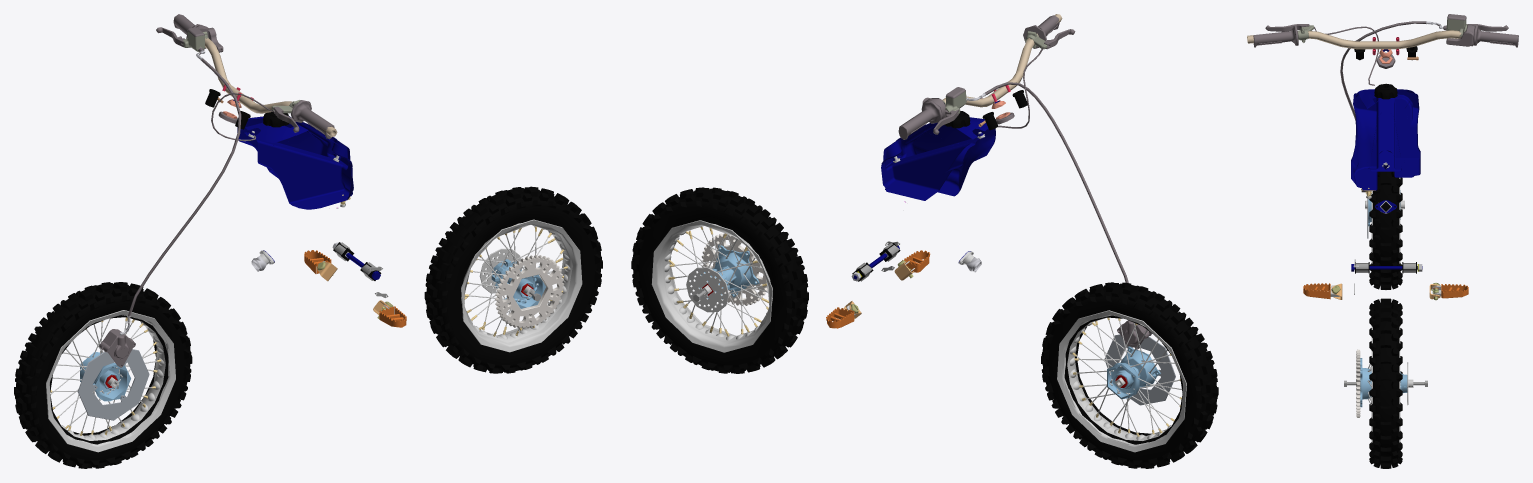
Rendered from Other Parts.fbx.
3 renders of one model, left to right at view 1: azimuth 30°, elevation 25°; view 2: azimuth 150°, elevation 25°; view 3: azimuth 270°, elevation 25°, orthographic. The views are drawn at different scales.
Visible parts, largest first — view 1: 274, 89, 744, 276, 91, 977, 355, 166, 158, Frame 1, 310, 913 (+2 smaller); view 2: 274, 89, 744, 276, 91, 977, 166, 158, 352, 310, 354, Frame 1 (+1 smaller); view 3: 274, 744, 89, 977, Frame 1, 914, 913, 310, 710, 881, 896, 984 (+1 smaller).
Boxes of the visible parts, x1,y1,x2,y2 form: 274: [424, 186, 602, 373]; 89: [14, 282, 192, 468]; 744: [237, 116, 353, 203]; 276: [461, 219, 582, 352]; 91: [46, 310, 175, 452]; 977: [99, 27, 299, 367]; 355: [495, 255, 564, 328]; 166: [77, 349, 149, 420]; 158: [80, 352, 130, 401]; Frame 1: [205, 38, 337, 136]; 310: [491, 259, 545, 308]; 913: [291, 100, 334, 139]; 274: [631, 187, 808, 373]; 89: [1041, 282, 1218, 468]; 744: [881, 118, 995, 200]; 276: [651, 220, 772, 352]; 91: [1057, 310, 1186, 452]; 977: [933, 29, 1151, 349]; 166: [1104, 334, 1175, 405]; 158: [1107, 346, 1160, 399]; 352: [686, 267, 728, 312]; 310: [699, 244, 759, 299]; 354: [701, 233, 767, 305]; Frame 1: [942, 14, 1062, 107]; 274: [1369, 298, 1402, 468]; 744: [1351, 89, 1420, 189]; 89: [1369, 171, 1402, 289]; 977: [1265, 14, 1508, 192]; Frame 1: [1247, 30, 1461, 49]; 914: [1473, 25, 1518, 47]; 913: [1253, 25, 1298, 47]; 310: [1360, 358, 1407, 407]; 710: [1354, 166, 1376, 190]; 881: [1303, 283, 1330, 299]; 896: [1441, 284, 1468, 298]; 984: [1446, 24, 1475, 46].
Size of the model in its own units: 808 by 501 by 377.
